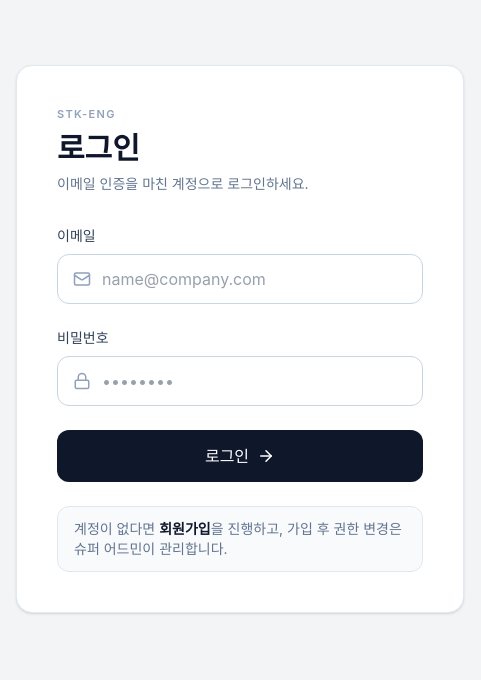
Login › shows error message on failed login
Type "wrong@test.com" into the field with placeholder "name@company.com".
click(240, 279); type("wrong@test.com")  # box [57, 254, 423, 304]
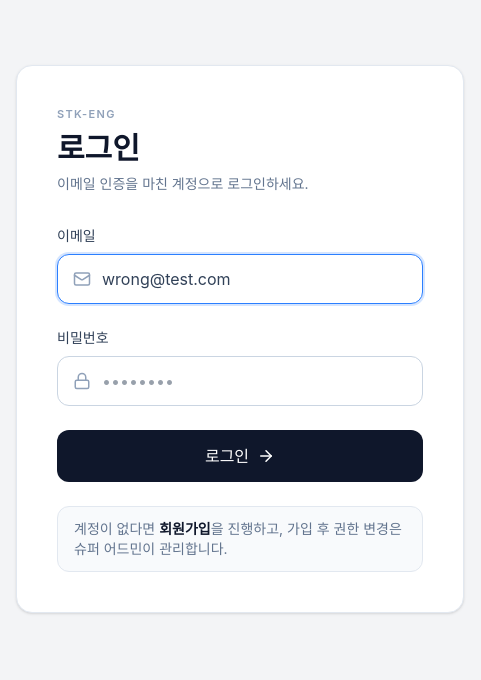
Type "wrongpass" into the password field with placeholder "••••••••".
click(240, 381); type("wrongpass")  # box [57, 356, 423, 406]
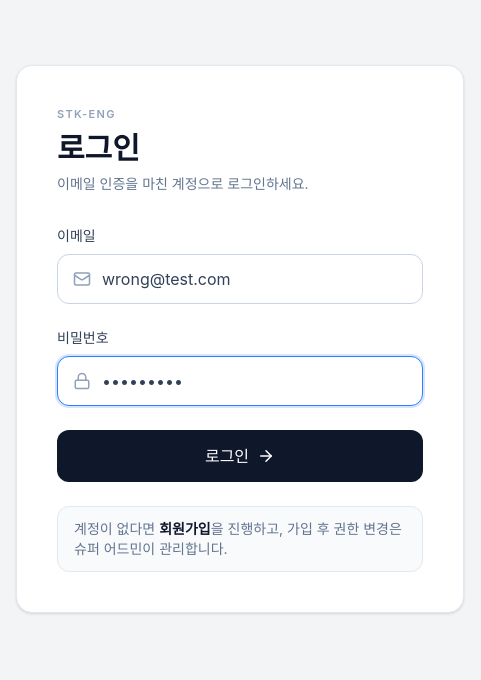
Click the button "로그인".
click(240, 456)  # box [57, 430, 423, 482]
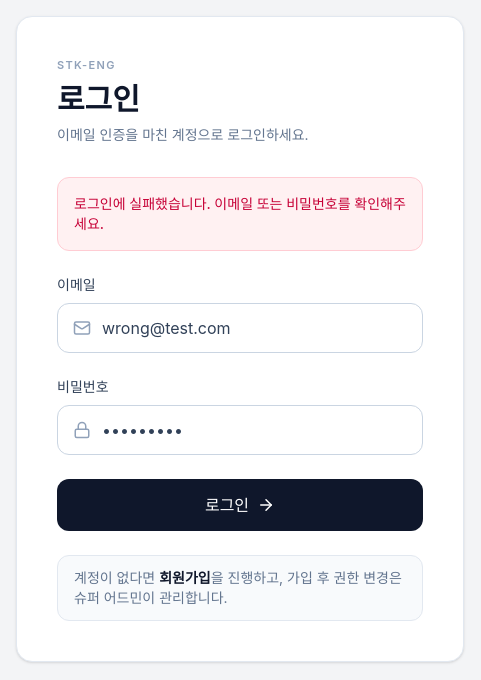
Expected: the text "로그인에 실패했습니다. 이메일 또는 비밀번호를 확인해주세요." is shown, [57, 177, 423, 251]
